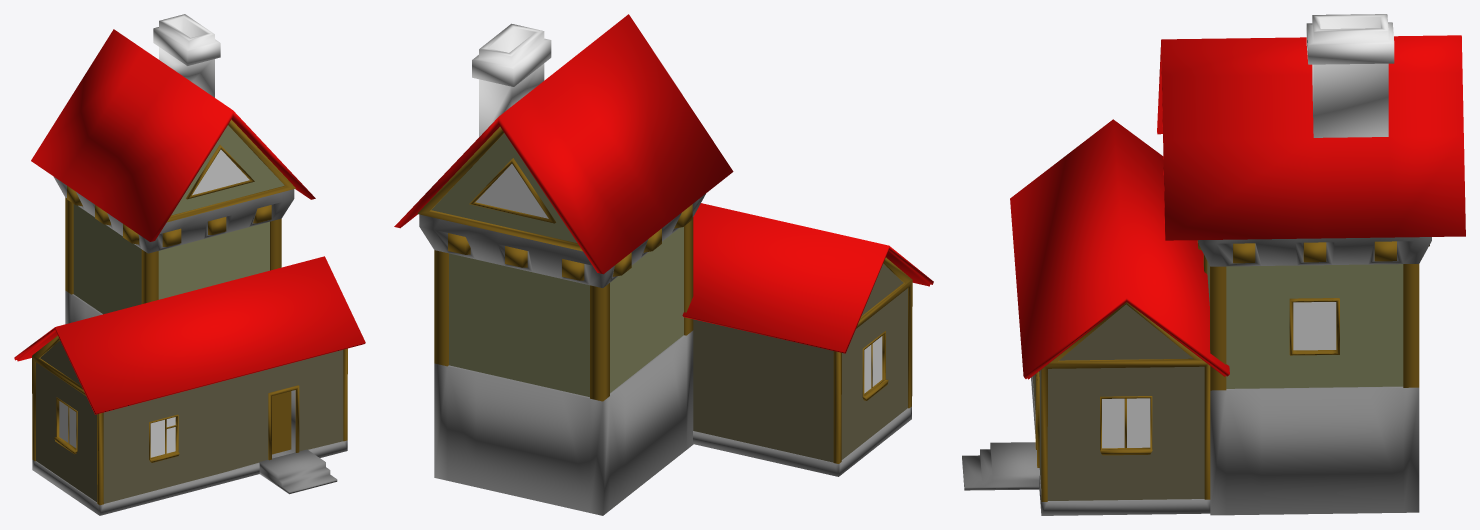
Rendered from house3.fbx.
3 renders of one model, left to right at view 1: azimuth 30°, elevation 25°; view 2: azimuth 150°, elevation 25°; view 3: azimuth 270°, elevation 25°, orthographic. The views are drawn at different scales.
Visible parts, largest first — view 1: Cube.030, Cube.017, Cube.022, Cube.010, Cube.016, Cube.029, Cube.026; view 2: Cube.030, Cube.016, Cube.022, Cube.017, Cube.010, Cube.029, Cube.026; view 3: Cube.030, Cube.016, Cube.017, Cube.022, Cube.010, Cube.029, Cube.026.
Part boxes in pixels (left/top/right/bottom): Cube.030: left=14, top=29, right=365, bottom=414; Cube.017: left=36, top=340, right=343, bottom=503; Cube.022: left=73, top=125, right=284, bottom=314; Cube.010: left=32, top=119, right=347, bottom=505; Cube.016: left=32, top=176, right=347, bottom=515; Cube.029: left=153, top=14, right=220, bottom=97; Cube.026: left=59, top=149, right=249, bottom=457; Cube.030: left=394, top=14, right=933, bottom=353; Cube.016: left=419, top=194, right=911, bottom=515; Cube.022: left=431, top=133, right=683, bottom=396; Cube.017: left=693, top=263, right=907, bottom=462; Cube.010: left=417, top=126, right=912, bottom=463; Cube.029: left=472, top=23, right=551, bottom=136; Cube.026: left=475, top=164, right=882, bottom=393; Cube.030: left=1010, top=35, right=1465, bottom=379; Cube.016: left=962, top=237, right=1431, bottom=515; Cube.017: left=1032, top=304, right=1204, bottom=500; Cube.022: left=1207, top=261, right=1403, bottom=388; Cube.010: left=1035, top=240, right=1429, bottom=501; Cube.029: left=1306, top=14, right=1394, bottom=137; Cube.026: left=1102, top=302, right=1336, bottom=448.
Size of the model in its own units: 635 by 751 by 738.
